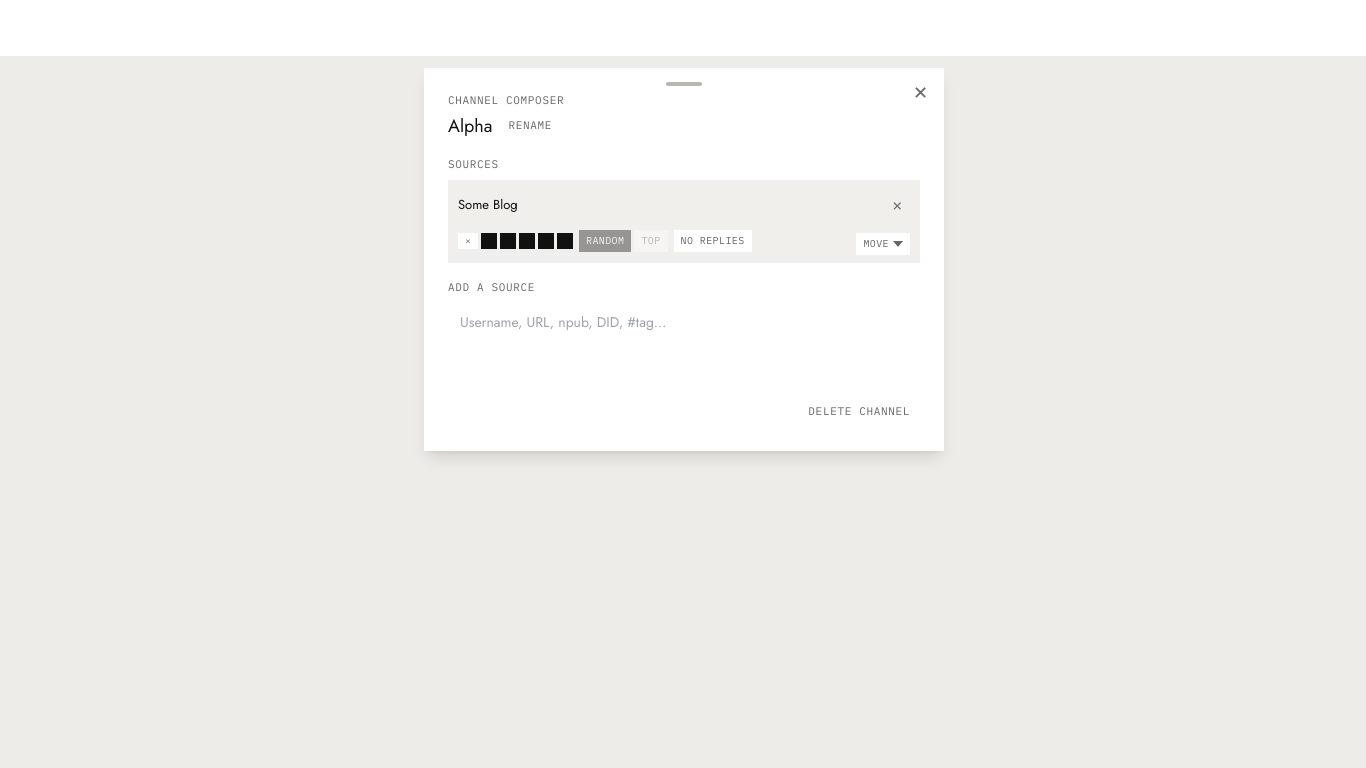
Test: the ⚙ panel's Move (R2) › writes the move, drops the row and reports both feeds
Click the button "Move".
click(883, 244)  # box [856,233,910,255]
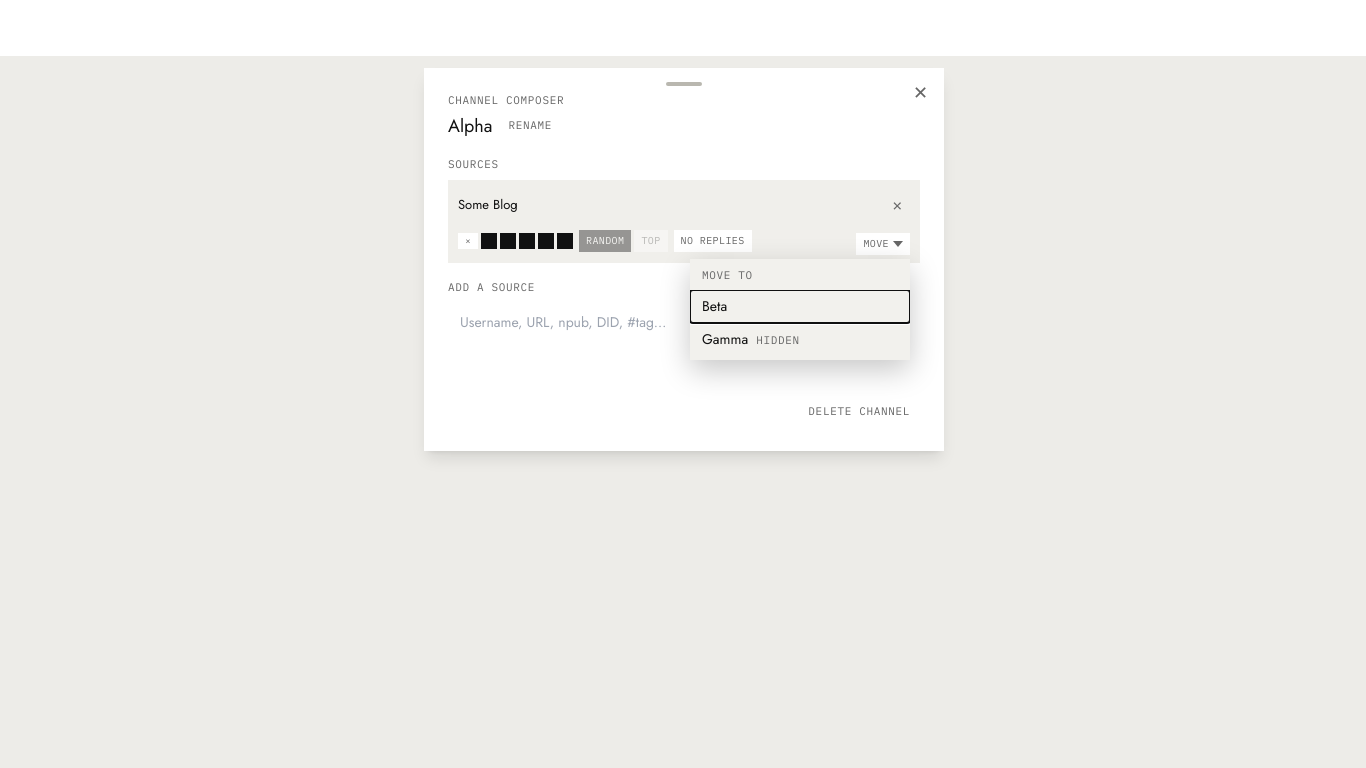
Click the button "Beta".
click(800, 307)  # box [690,290,910,323]
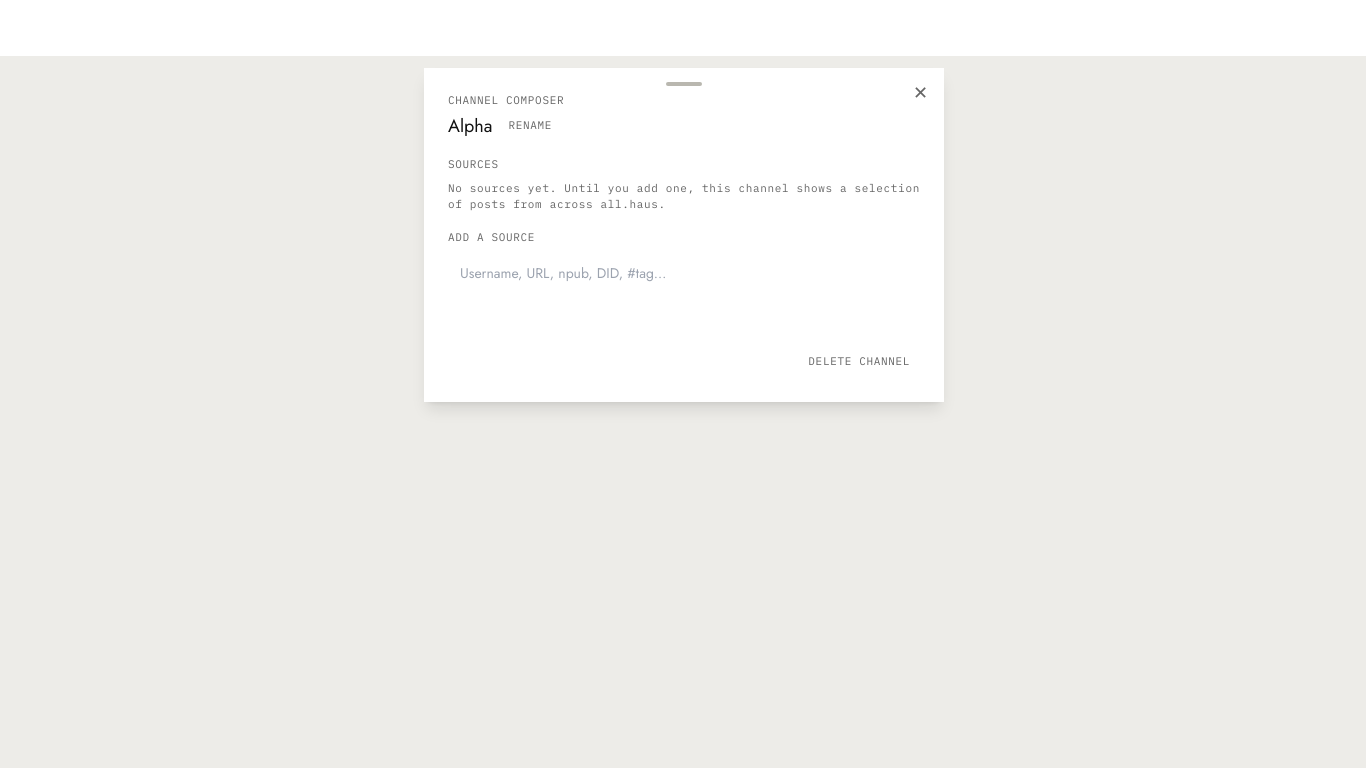
Check: the text "Some Blog" is gone
